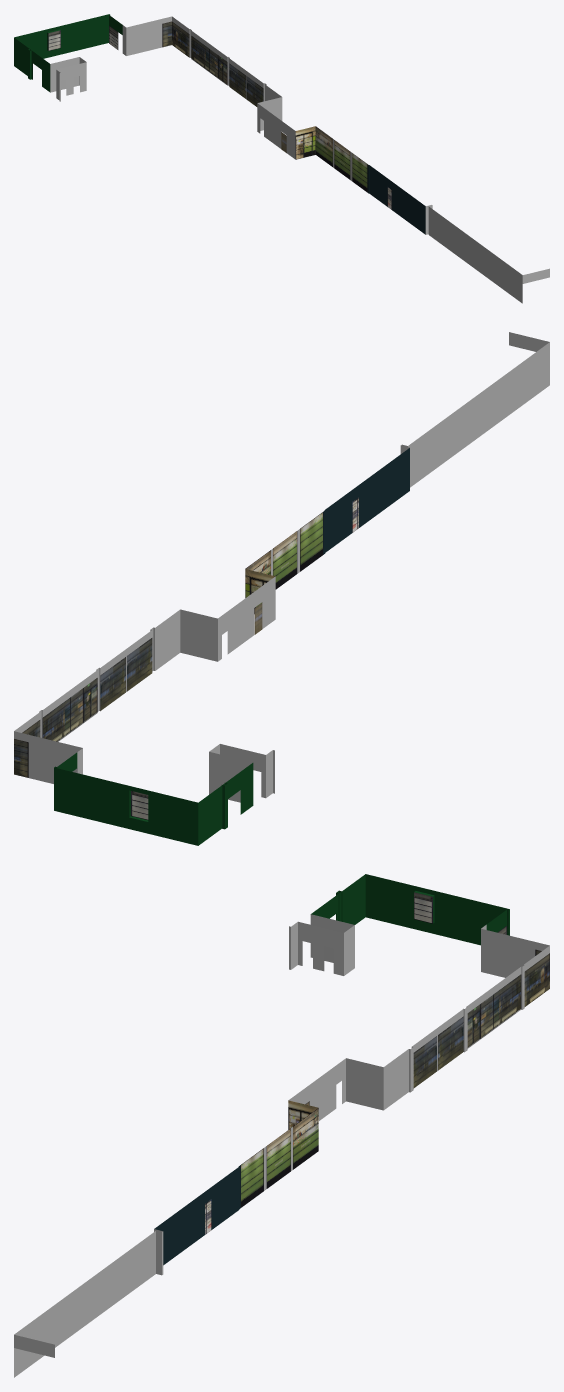
Rendered from SW_corridor__R_lobby_InnerW_S_3.FBX.
The picture shows the model from 3 angles, top to bottom: view 1: azimuth 30°, elevation 25°; view 2: azimuth 150°, elevation 25°; view 3: azimuth 330°, elevation 25°; orthographic projection. The views are drawn at different scales.
Visible parts, largest first — view 1: SW_corridor__R_lobby_InnerW_S_3; view 2: SW_corridor__R_lobby_InnerW_S_3; view 3: SW_corridor__R_lobby_InnerW_S_3.
Part boxes in pixels (x1=…): SW_corridor__R_lobby_InnerW_S_3: x1=14, y1=14, x2=549, y2=303; SW_corridor__R_lobby_InnerW_S_3: x1=14, y1=332, x2=549, y2=845; SW_corridor__R_lobby_InnerW_S_3: x1=14, y1=874, x2=549, y2=1377.
Size of the model in its own units: 1957 by 7497 by 325.
